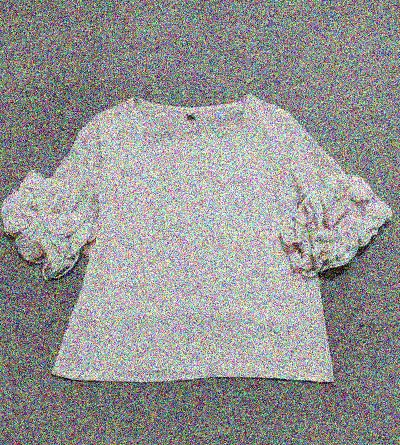Blouse: (5, 76, 391, 402)
